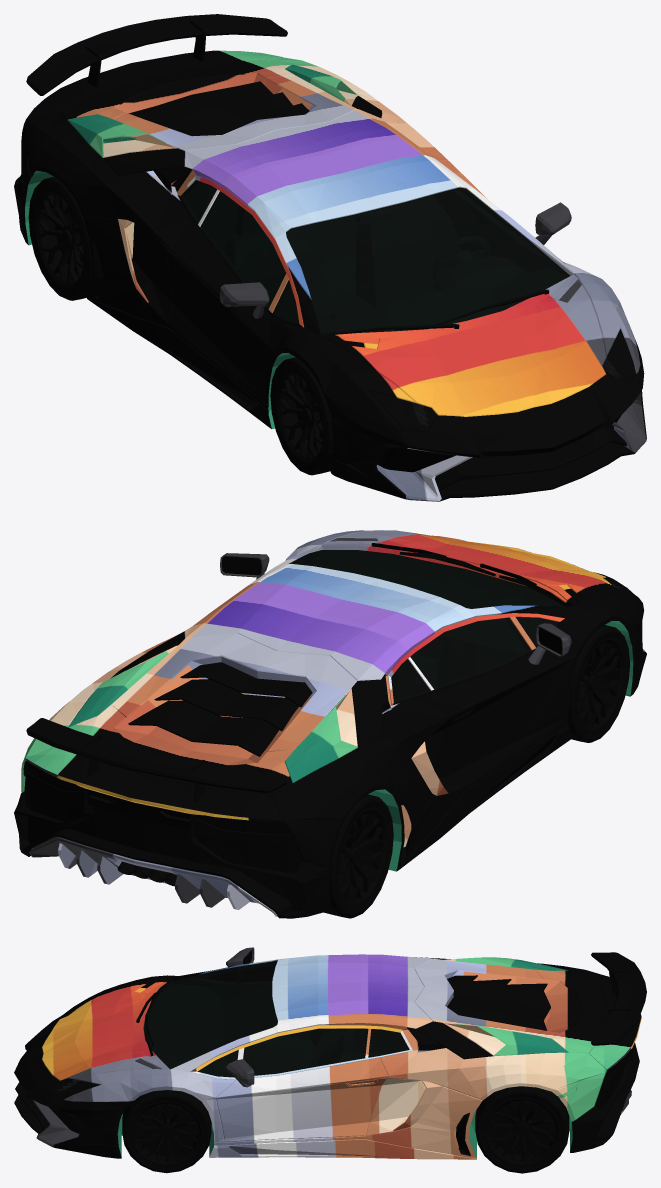
File: CAR Model.glb
3 renders of one model, top to bottom at view 1: azimuth 30°, elevation 25°; view 2: azimuth 150°, elevation 25°; view 3: azimuth 270°, elevation 25°, orthographic. The views are drawn at different scales.
Parts seen in each view (by area): view 1: Lamborghini_Aventador_Body, Lamborghini_Aventador_Glass, Lamborghini_Aventador_Wheel_RR, Lamborghini_Aventador_Wheel_FR; view 2: Lamborghini_Aventador_Body, Lamborghini_Aventador_Glass, Lamborghini_Aventador_Wheel_RR, Lamborghini_Aventador_Wheel_FR; view 3: Lamborghini_Aventador_Body, Lamborghini_Aventador_Glass, Lamborghini_Aventador_Wheel_RL, Lamborghini_Aventador_Wheel_FL.
Boxes of the visible parts, left/top/right/bottom form: Lamborghini_Aventador_Body: left=14, top=14, right=646, bottom=501; Lamborghini_Aventador_Glass: left=180, top=180, right=635, bottom=432; Lamborghini_Aventador_Wheel_RR: left=28, top=176, right=91, bottom=300; Lamborghini_Aventador_Wheel_FR: left=270, top=357, right=333, bottom=475; Lamborghini_Aventador_Body: left=14, top=530, right=646, bottom=918; Lamborghini_Aventador_Glass: left=289, top=550, right=633, bottom=702; Lamborghini_Aventador_Wheel_RR: left=323, top=794, right=393, bottom=918; Lamborghini_Aventador_Wheel_FR: left=568, top=625, right=629, bottom=742; Lamborghini_Aventador_Body: left=14, top=947, right=646, bottom=1159; Lamborghini_Aventador_Glass: left=53, top=960, right=409, bottom=1099; Lamborghini_Aventador_Wheel_RL: left=475, top=1086, right=569, bottom=1173; Lamborghini_Aventador_Wheel_FL: left=122, top=1090, right=211, bottom=1173.
Bounding box in the file's own units: 230 × 118 × 489.
Materials: 2 (1 with a texture image).
